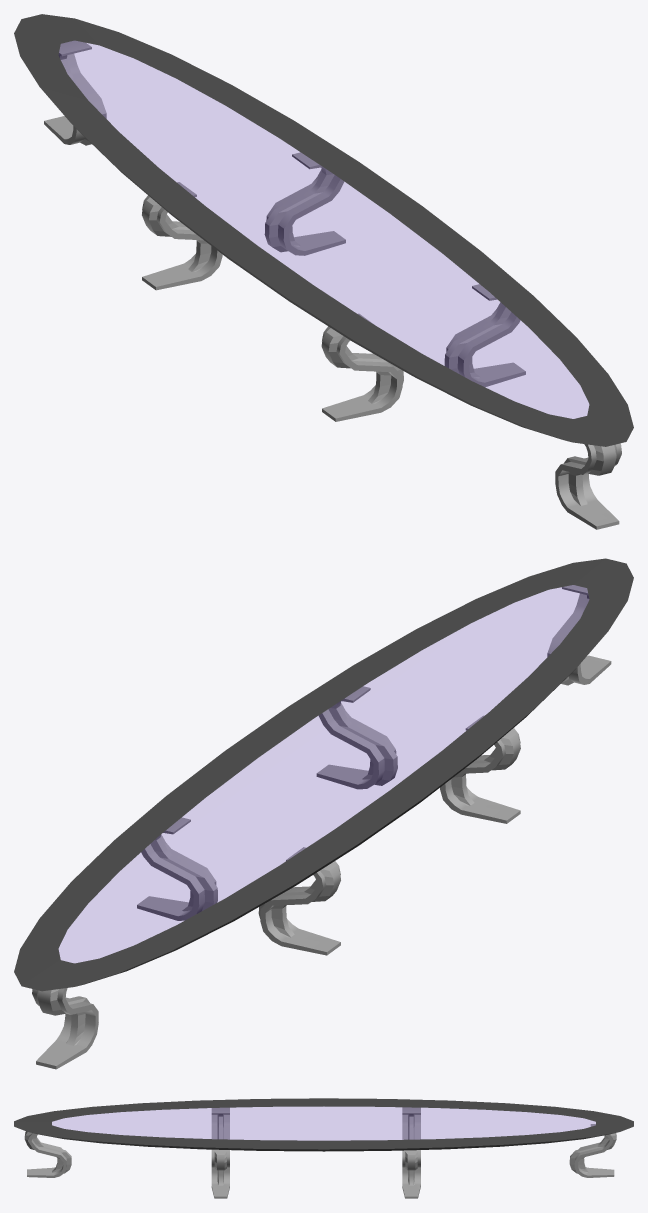
The model's file is SM_decor_table_conference.fbx.
The picture shows the model from 3 angles, top to bottom: view 1: azimuth 30°, elevation 25°; view 2: azimuth 150°, elevation 25°; view 3: azimuth 270°, elevation 25°; orthographic projection. The views are drawn at different scales.
Visible parts, largest first — view 1: pCylinder3, polySurface23, polySurface20, polySurface18, polySurface19, polySurface21, polySurface22; view 2: pCylinder3, polySurface18, polySurface23, polySurface21, polySurface22, polySurface20, polySurface19; view 3: pCylinder3, polySurface19, polySurface22, polySurface18, polySurface23, polySurface21, polySurface20.
Part boxes in pixels (left/top/right/bottom): pCylinder3: left=14, top=14, right=633, bottom=446; polySurface23: left=264, top=152, right=345, bottom=255; polySurface20: left=321, top=313, right=403, bottom=421; polySurface18: left=444, top=284, right=525, bottom=387; polySurface19: left=555, top=443, right=621, bottom=529; polySurface21: left=142, top=182, right=222, bottom=290; polySurface22: left=44, top=40, right=106, bottom=145; pCylinder3: left=14, top=558, right=633, bottom=991; polySurface18: left=316, top=686, right=397, bottom=789; polySurface23: left=137, top=817, right=217, bottom=920; polySurface21: left=258, top=847, right=340, bottom=955; polySurface22: left=32, top=988, right=98, bottom=1069; polySurface20: left=440, top=715, right=520, bottom=823; polySurface19: left=547, top=585, right=611, bottom=685; pCylinder3: left=14, top=1098, right=633, bottom=1151; polySurface19: left=24, top=1131, right=71, bottom=1177; polySurface22: left=569, top=1124, right=616, bottom=1177; polySurface18: left=211, top=1149, right=229, bottom=1198; polySurface23: left=402, top=1150, right=420, bottom=1198; polySurface21: left=402, top=1107, right=420, bottom=1139; polySurface20: left=211, top=1107, right=229, bottom=1139.
Bounding box in the file's own units: 15.55 × 7.11 × 78.26.
